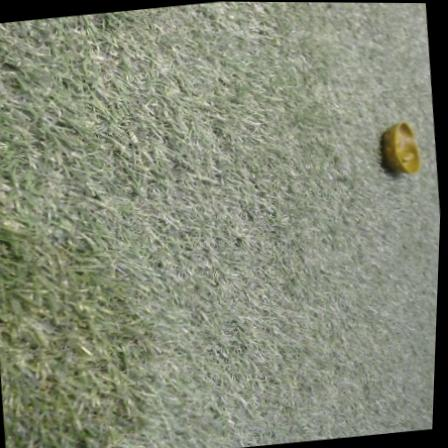dog-poop: (375, 112, 428, 181)
